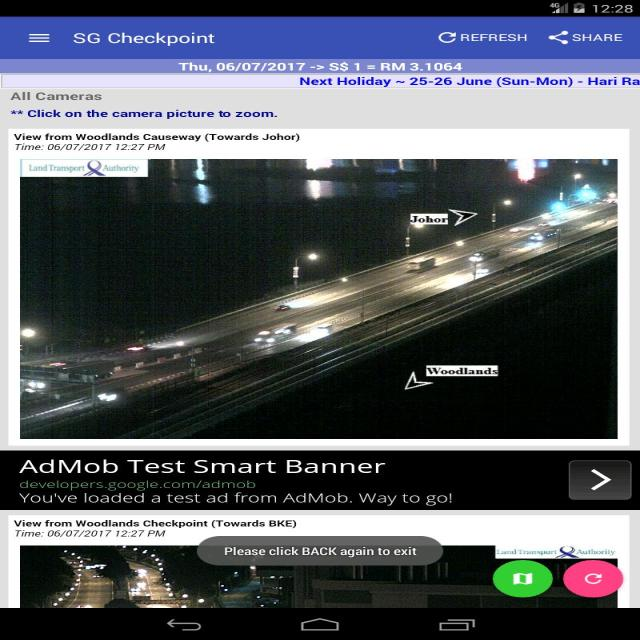button: (563, 558, 628, 598), (491, 558, 554, 599), (437, 29, 532, 48), (546, 29, 624, 48), (24, 30, 55, 47)
heading: (70, 30, 222, 49), (7, 89, 106, 105)
iframe: (4, 450, 638, 512)
image: (19, 159, 617, 439), (21, 544, 616, 609)
label: (11, 142, 174, 153), (14, 529, 170, 537)
text: (178, 59, 468, 74), (10, 106, 281, 120), (14, 515, 301, 528), (10, 131, 304, 142)
